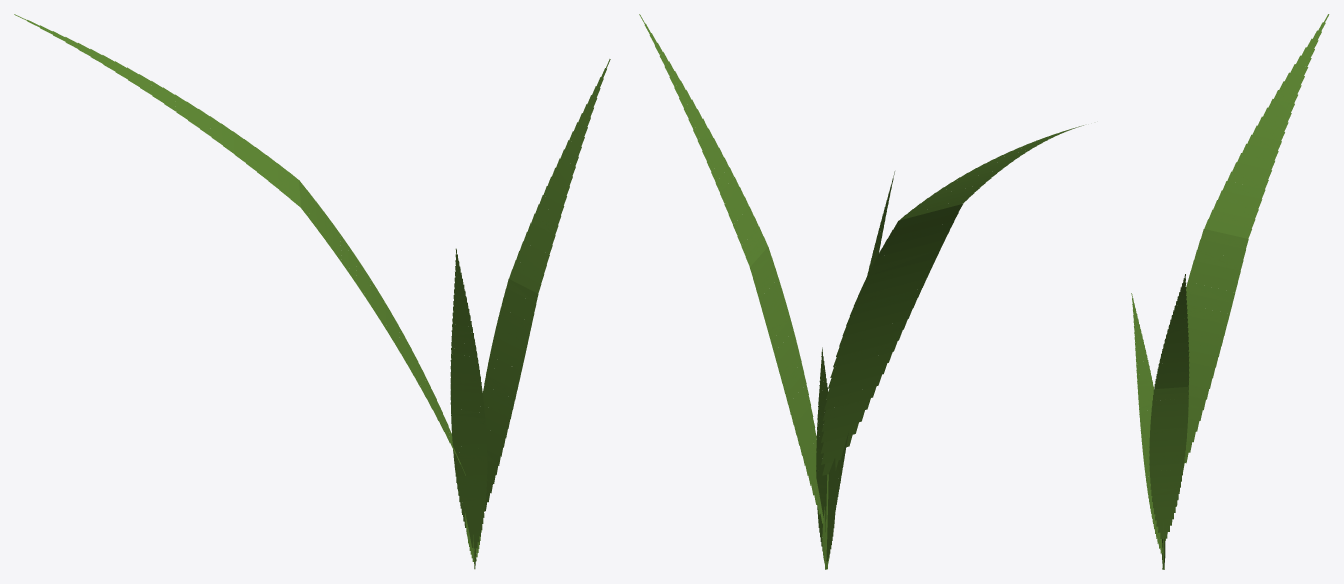
The model's file is maize_005_day_045.dae.
3 views of the same model, side by side, from view 1: azimuth 30°, elevation 25°; view 2: azimuth 150°, elevation 25°; view 3: azimuth 270°, elevation 25° (orthographic). The views are drawn at different scales.
Visible parts, largest first — view 1: node; view 2: node; view 3: node.
Part boxes in pixels (left/top/right/bottom): node: left=14, top=14, right=610, bottom=569; node: left=639, top=14, right=1083, bottom=569; node: left=1131, top=14, right=1329, bottom=569.
Size of the model in its own units: 0.2029 by 0.2167 by 0.0915.
Materials: 1 (1 with a texture image).
